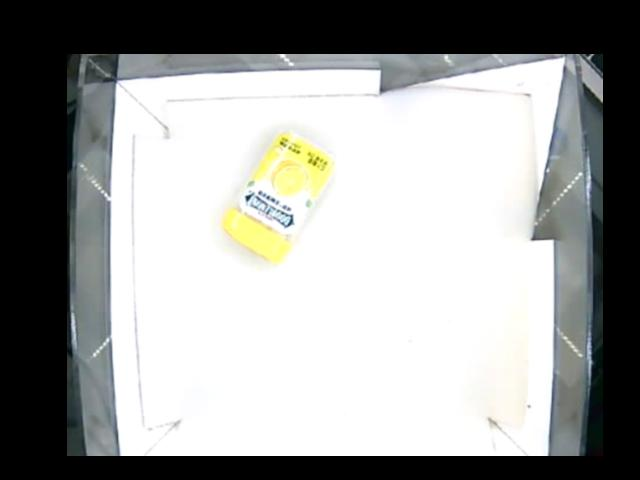Bottle: (225, 130, 334, 266)
